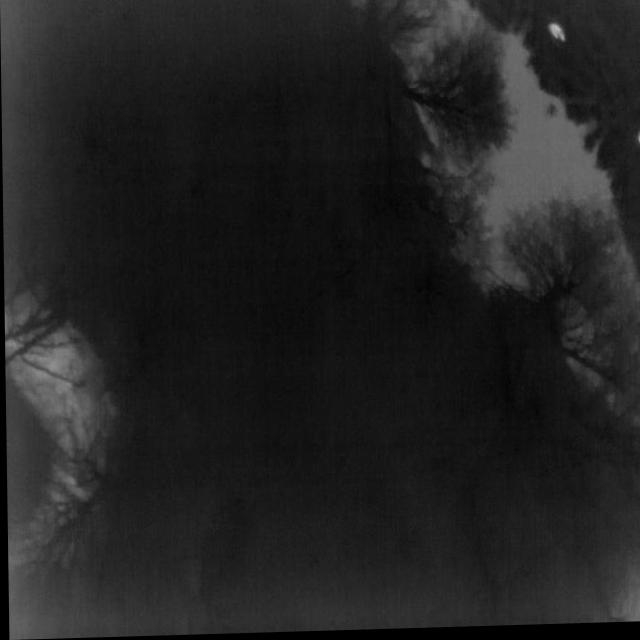deer: (547, 25, 565, 45), (637, 131, 640, 149)
